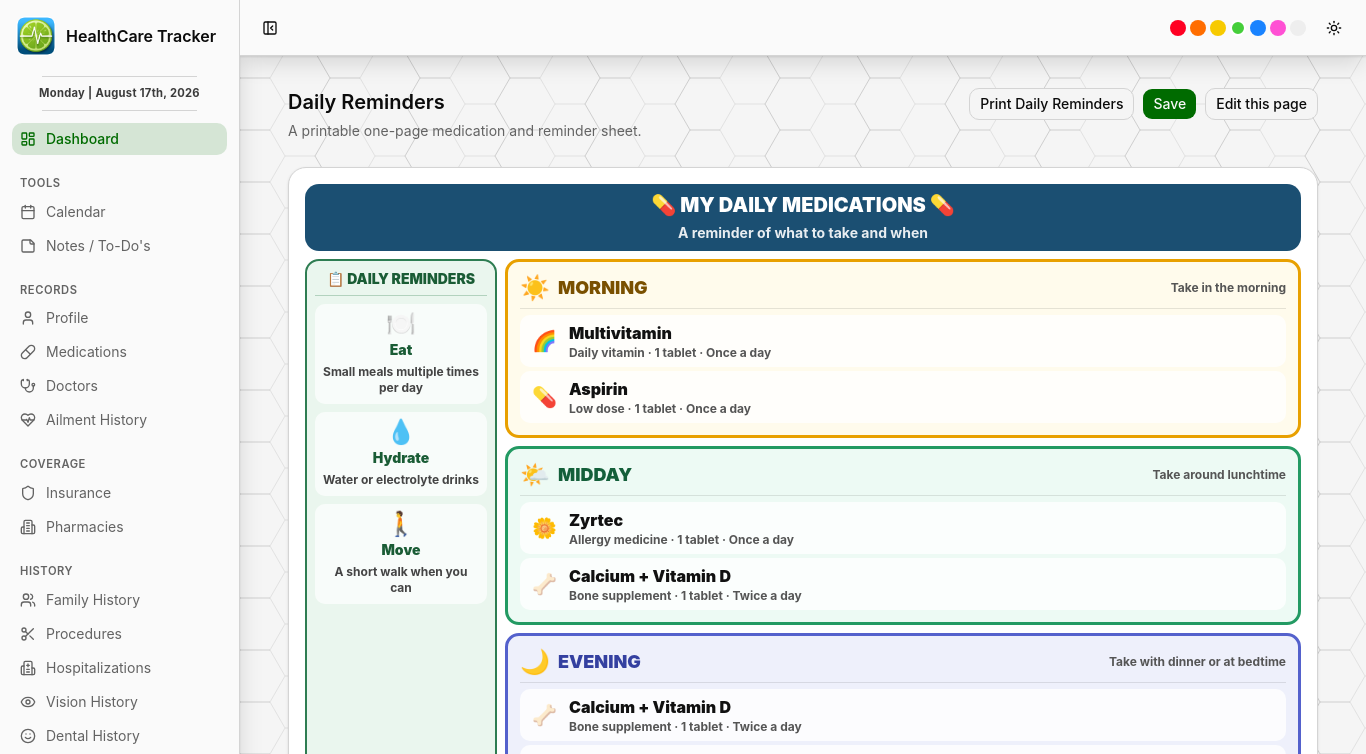
Test: RemindersPage › shows a transient confirmation after a successful save
This screenshot has width=1366, height=754.
Check: the text "MY DAILY MEDICATIONS" is shown, box [680,193,926,217]
Click the button "Save".
click(1170, 104)  # box [1142,88,1197,120]
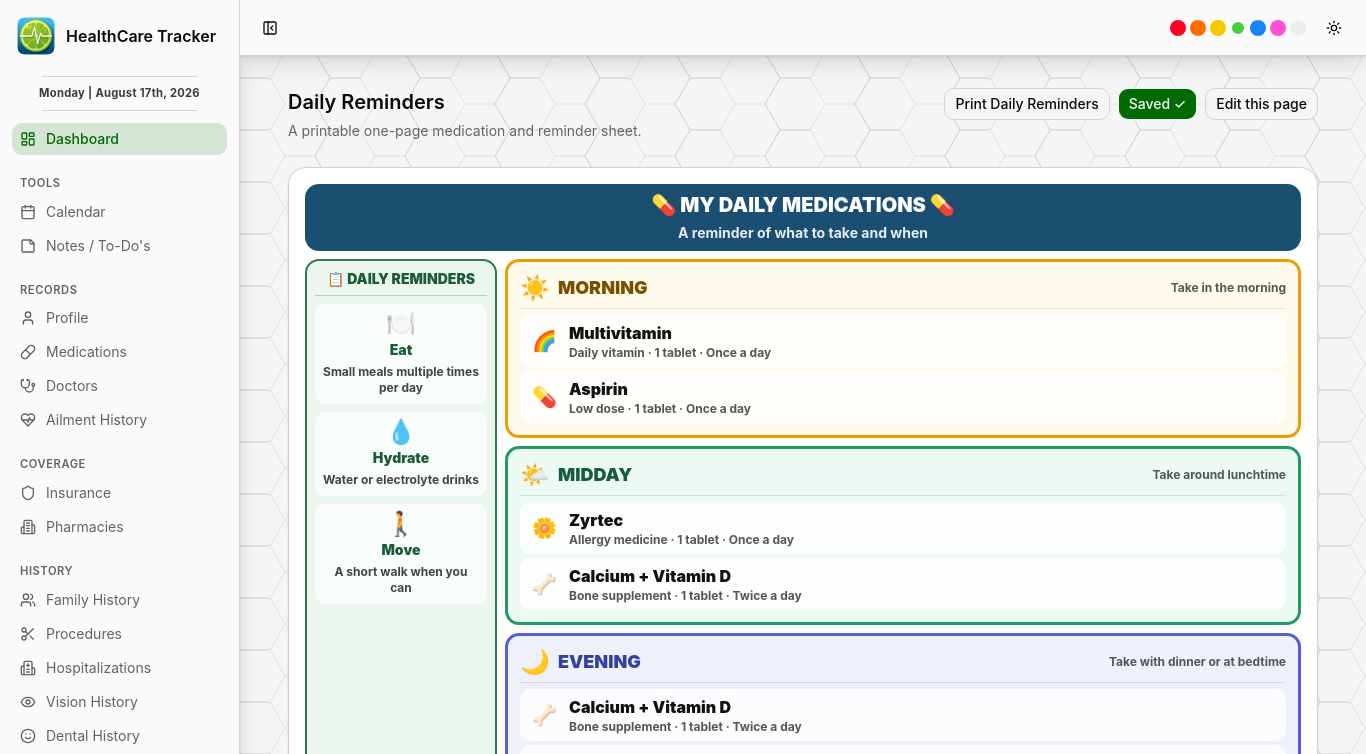
Check: the button "Saved ✓" is shown, box [1118,88,1197,120]
